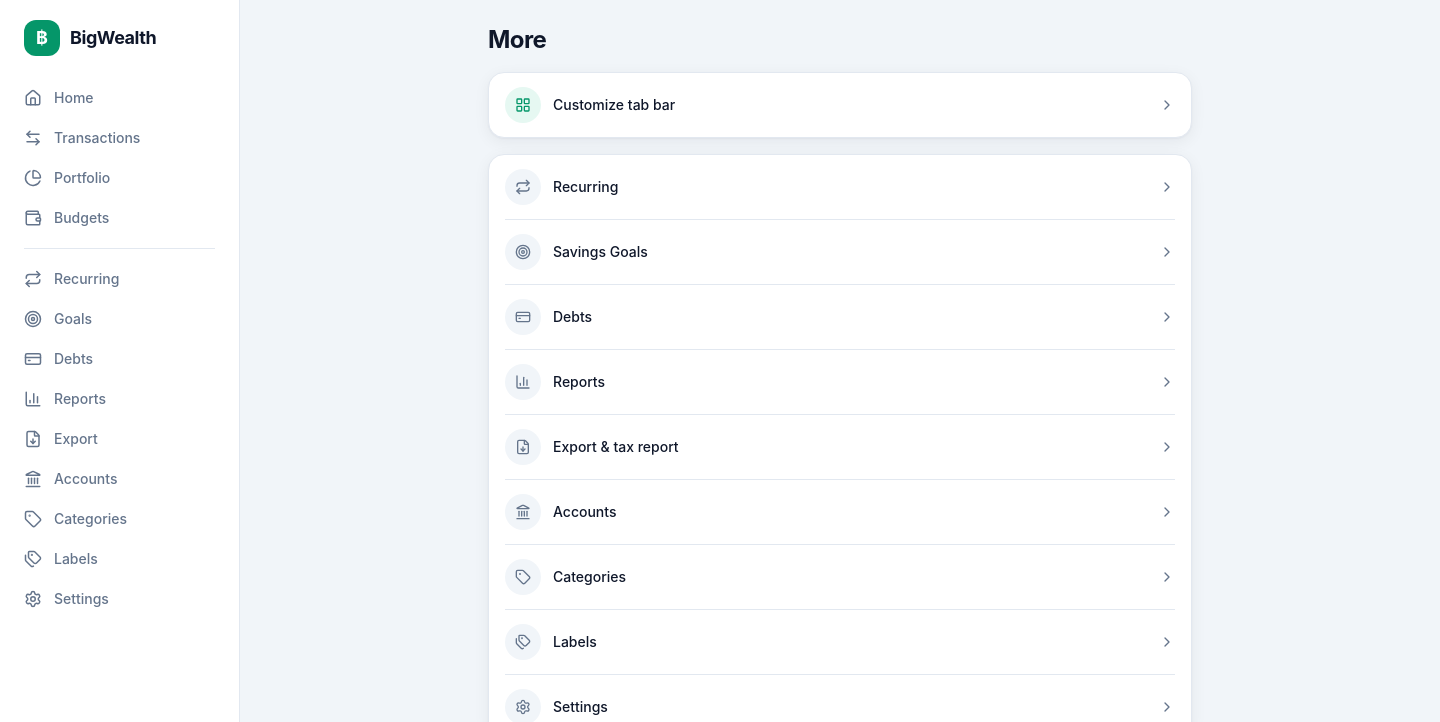
Customize tab bar › explains the limits instead of breaking them
Click the button "Customize tab bar".
click(523, 105)  # box left=505, top=73, right=1175, bottom=137
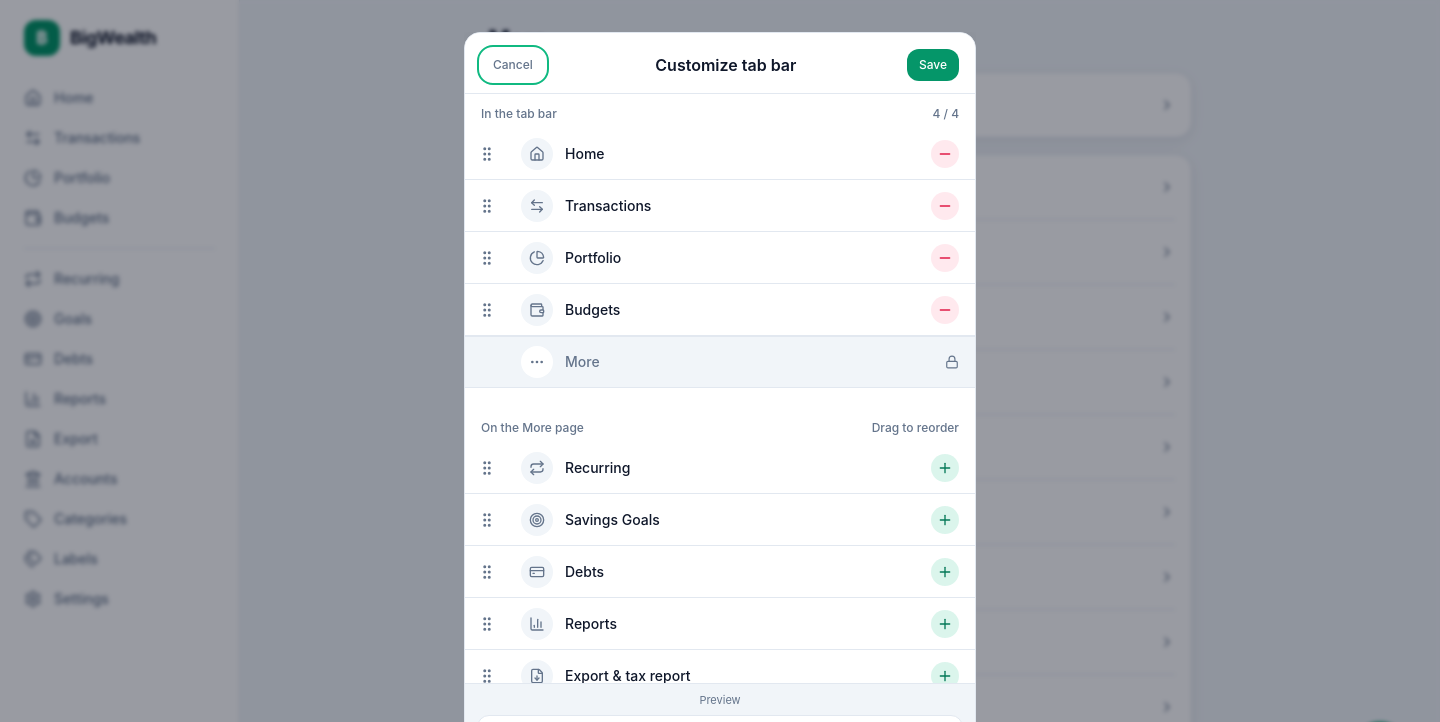
Click the button named "Add Goals to the tab bar".
click(945, 520)  # box left=931, top=506, right=959, bottom=534
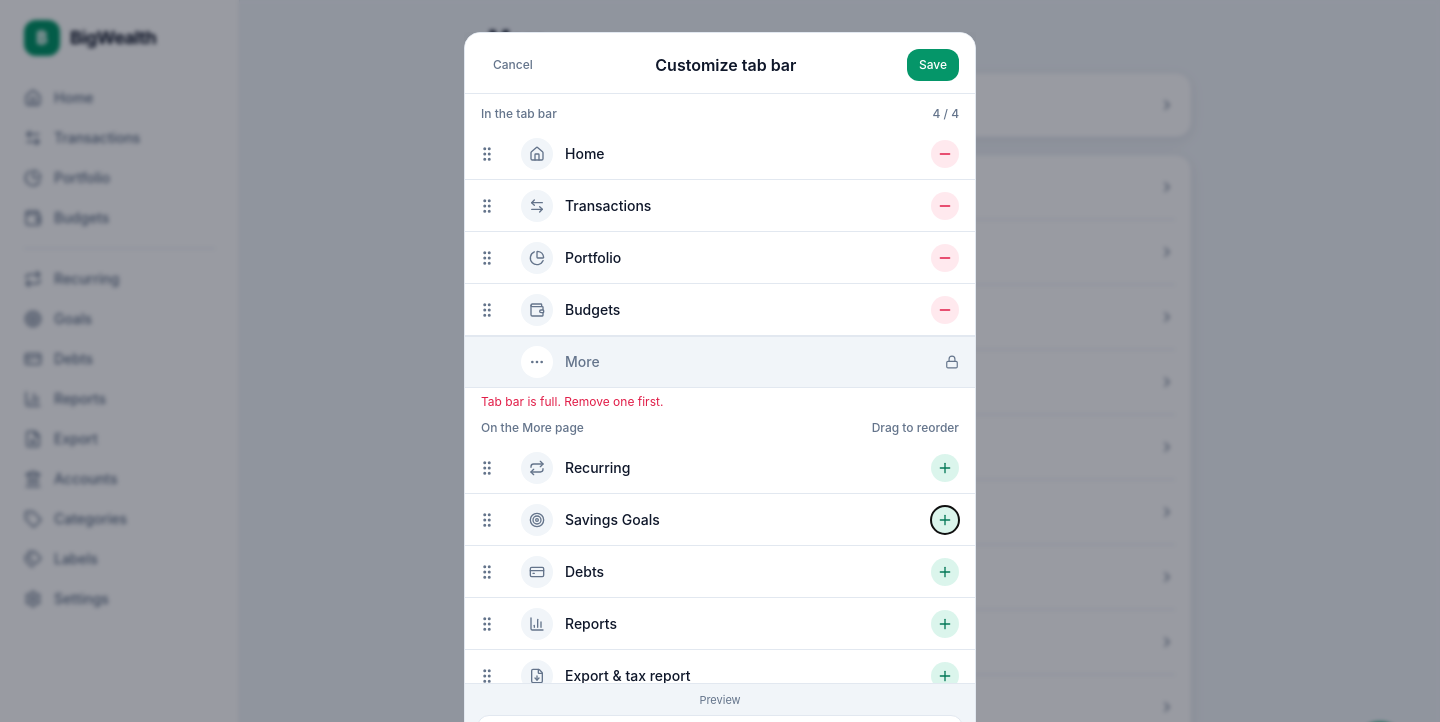
Now the message shows "Tab bar is full", box left=481, top=394, right=663, bottom=409
Click the button named "Remove Home from the tab bar".
click(945, 154)  # box left=931, top=140, right=959, bottom=168
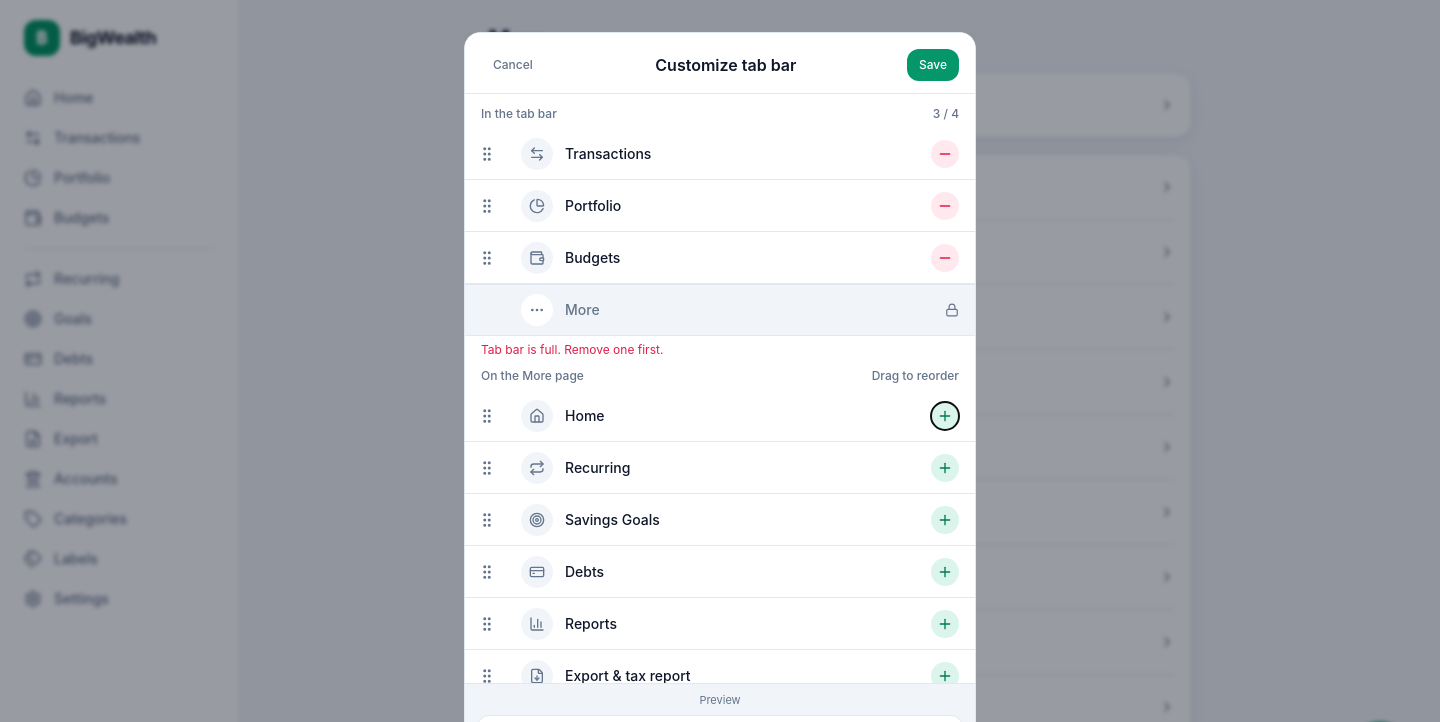
Click the button named "Remove Transactions from the tab bar".
click(945, 154)  # box left=931, top=140, right=959, bottom=168
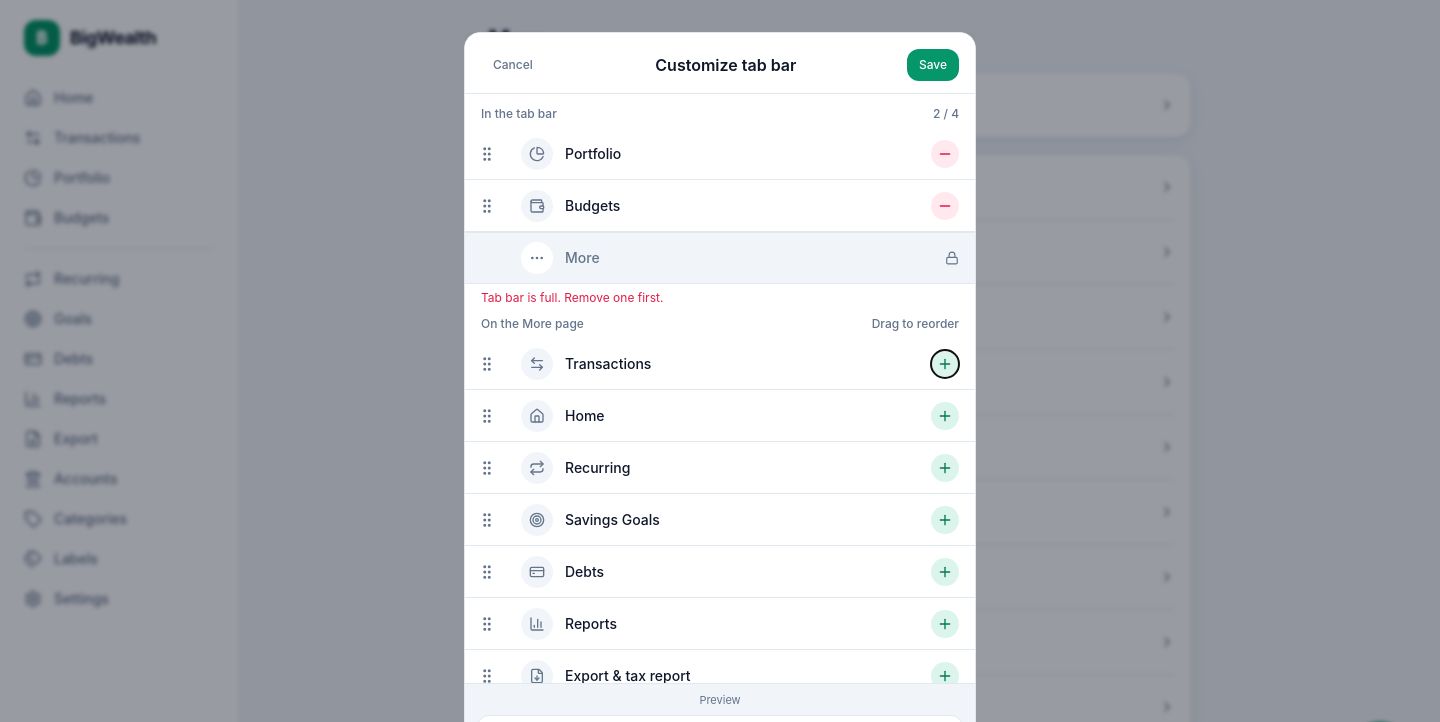
Click the button named "Remove Portfolio from the tab bar".
click(945, 154)  # box left=931, top=140, right=959, bottom=168
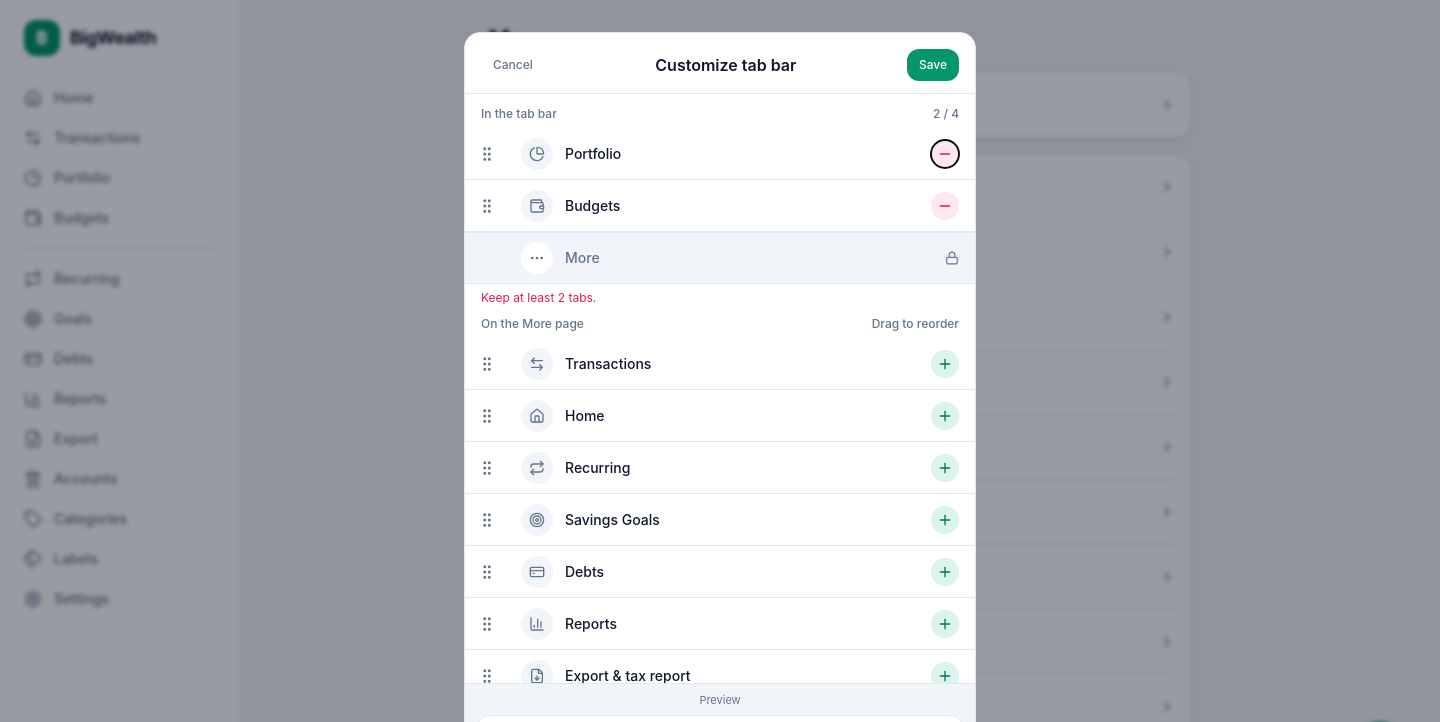
Now the text "2 / 4" is shown, box left=933, top=106, right=959, bottom=122
Now the message shows "Keep at least 2 tabs", box left=481, top=290, right=596, bottom=305
